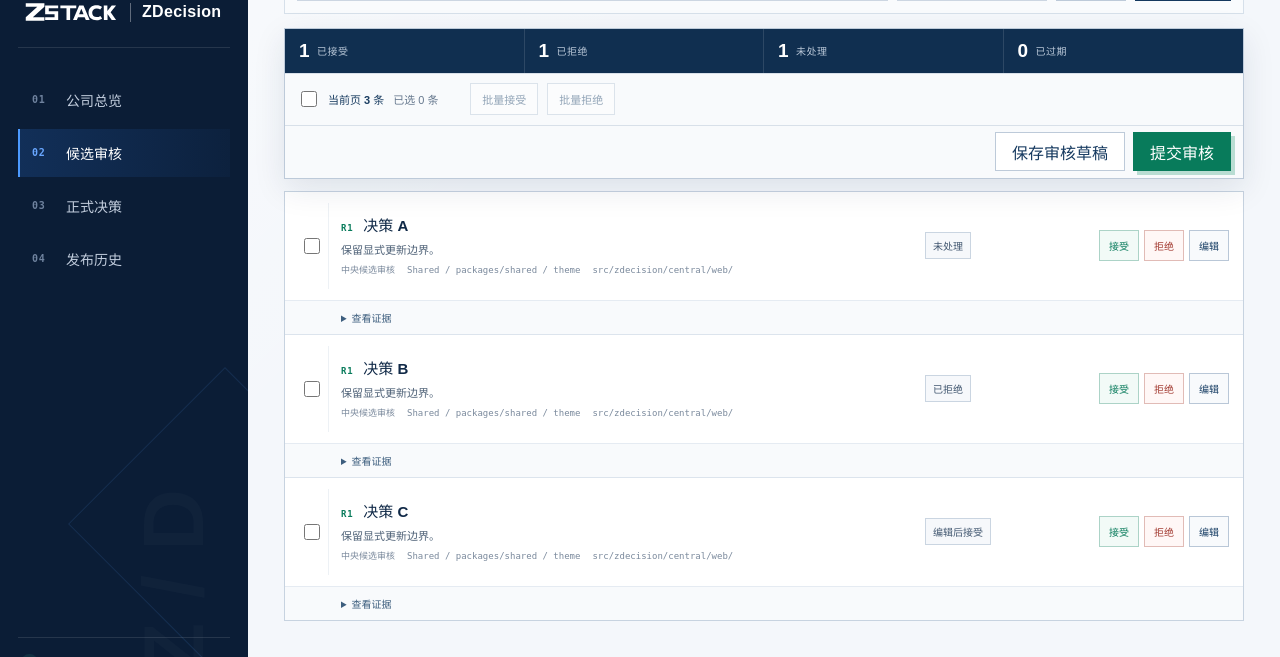
Scenario: batch accepts exactly selected rows and undo restores mixed actions
(page scrolled)
Click the button with aria-label "编辑决策 C" at {"x": 1209, "y": 532}, box top-left (1189, 516), bottom-right (1229, 547)
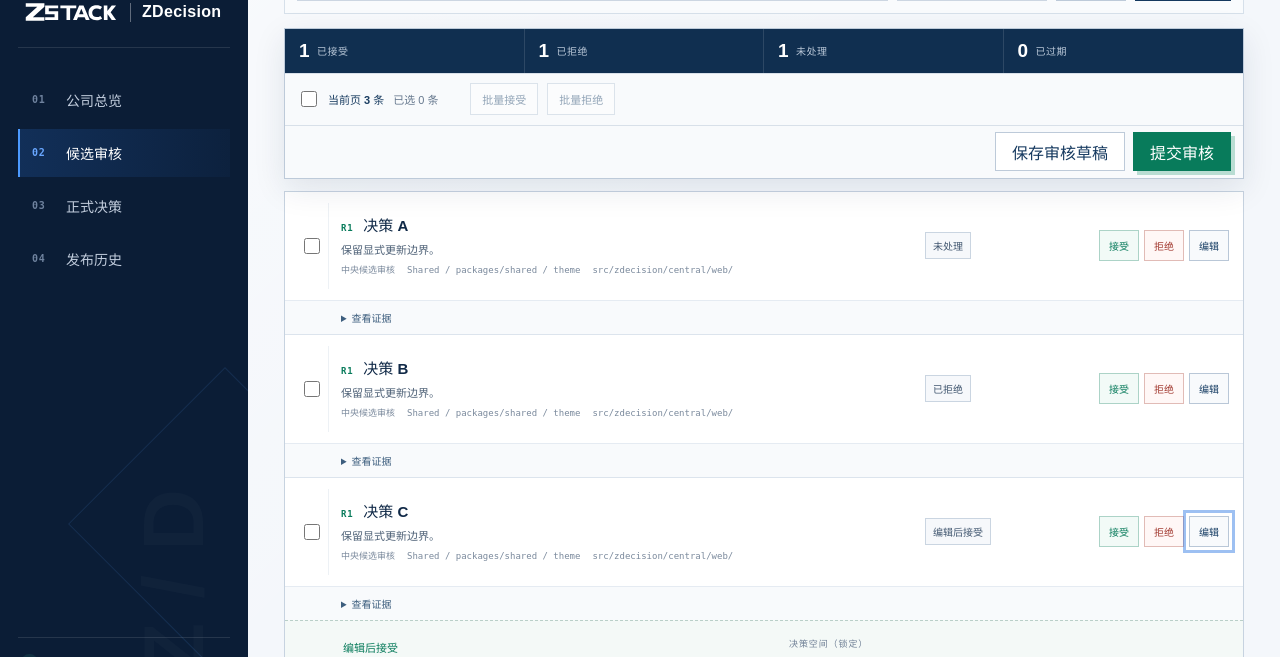
Click the checkbox named "选择决策 A" at {"x": 312, "y": 246}, box top-left (304, 238), bottom-right (320, 254)
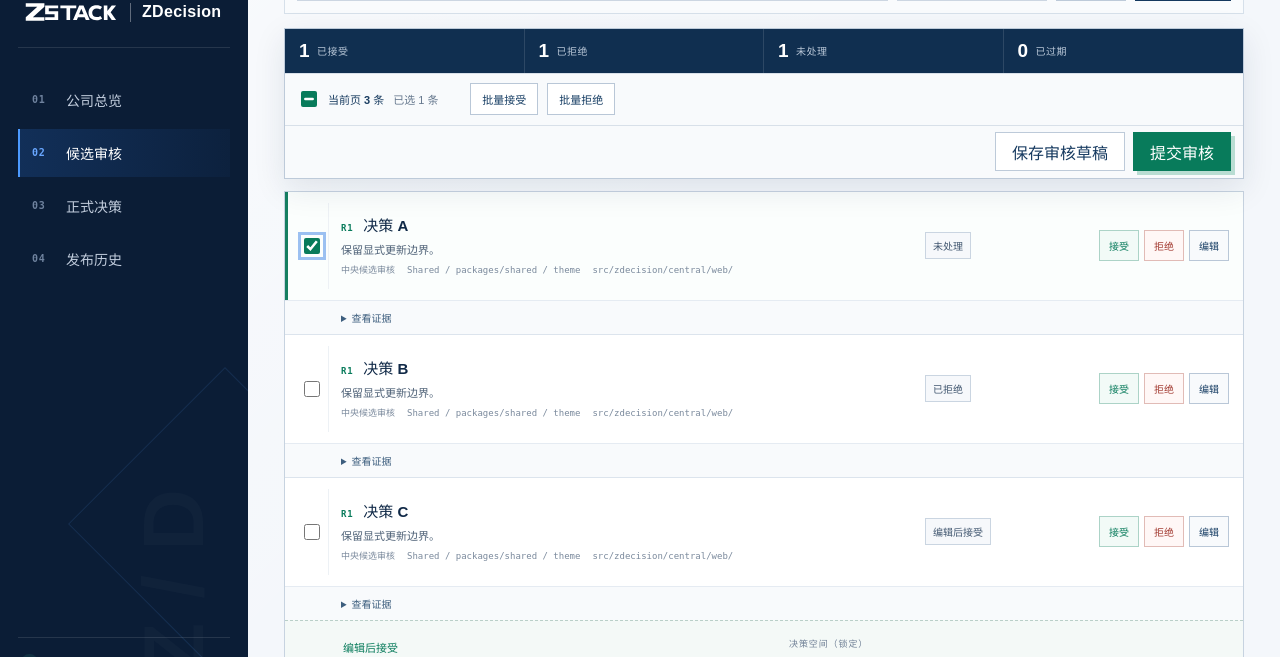
Click the checkbox named "选择决策 C" at {"x": 312, "y": 532}, box top-left (304, 524), bottom-right (320, 540)
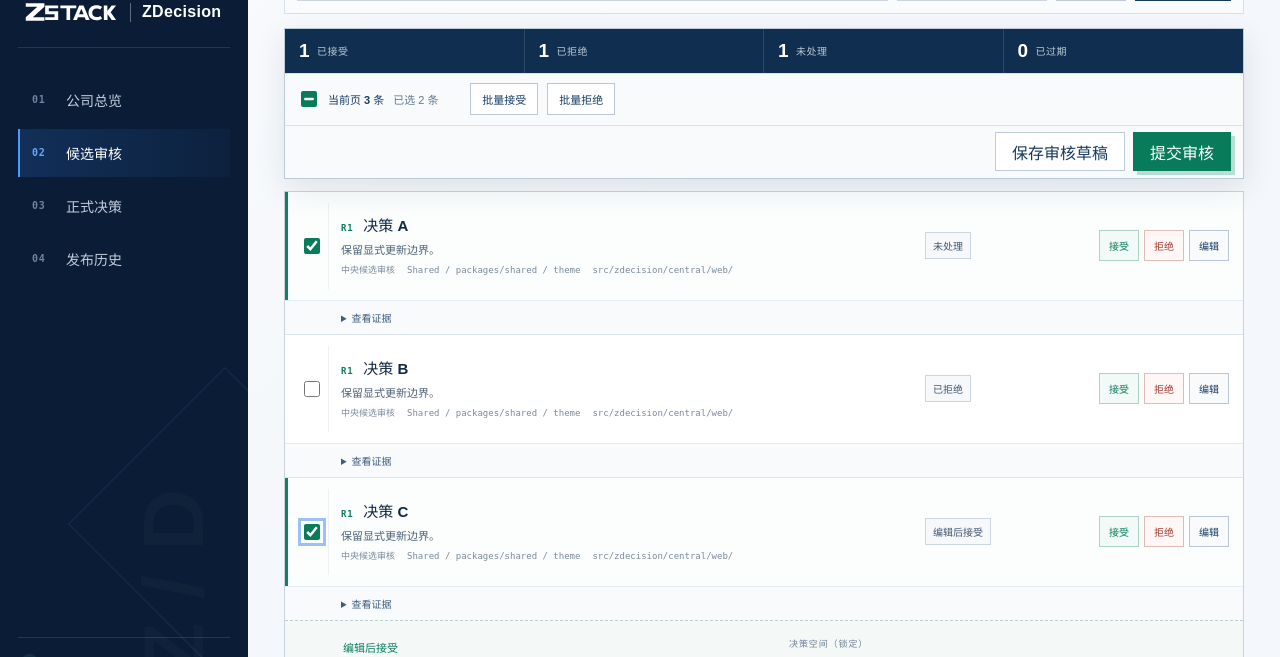
Click the button "批量接受" at {"x": 504, "y": 99}, box top-left (470, 83), bottom-right (538, 115)
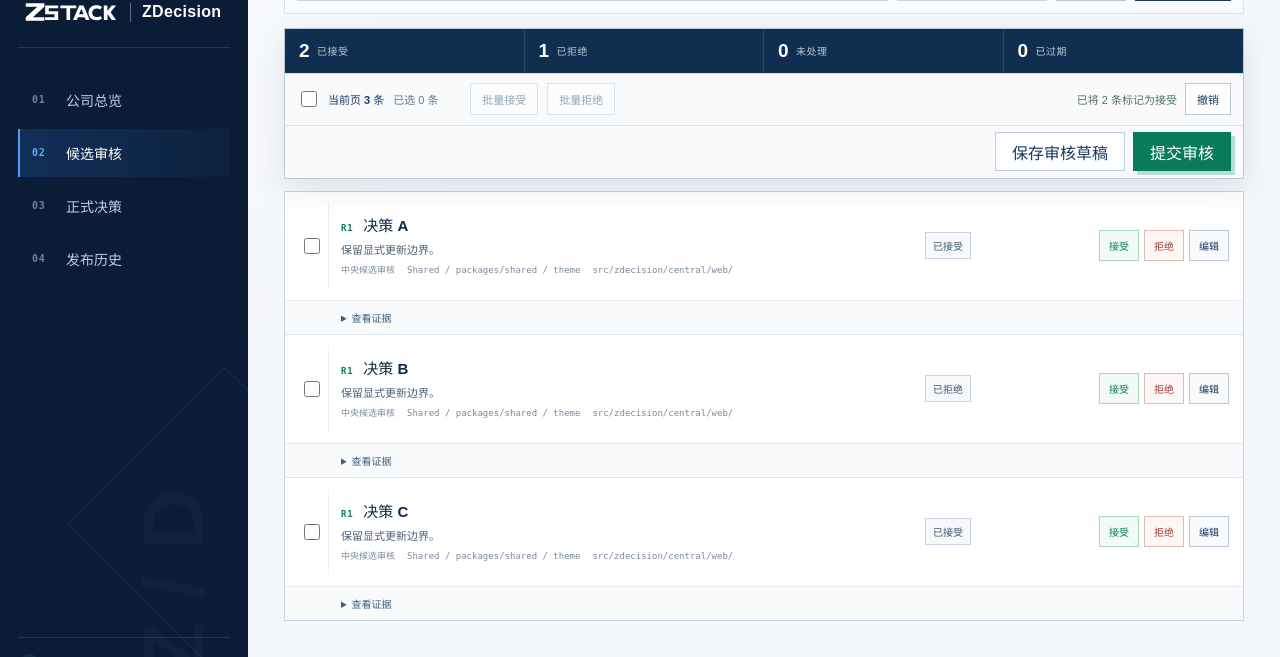
Expected: the text "已拒绝" is shown, top-left (925, 375), bottom-right (971, 402)
Expected: the 1st text "已接受" is shown, top-left (925, 232), bottom-right (971, 259)
Expected: the 2nd text "已接受" is shown, top-left (925, 518), bottom-right (971, 545)
Click the button "撤销" at {"x": 1208, "y": 99}, box top-left (1185, 83), bottom-right (1231, 115)
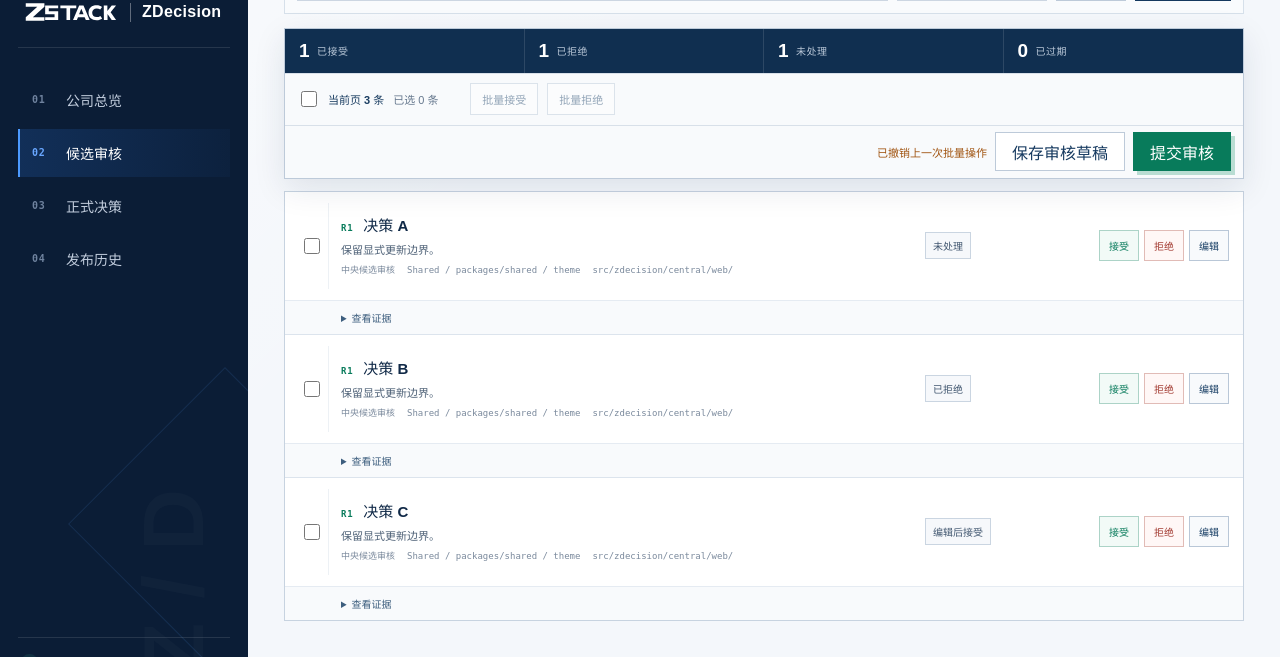
Expected: the text "未处理" is shown, top-left (925, 232), bottom-right (971, 259)
Expected: the text "编辑后接受" is shown, top-left (925, 518), bottom-right (991, 545)
